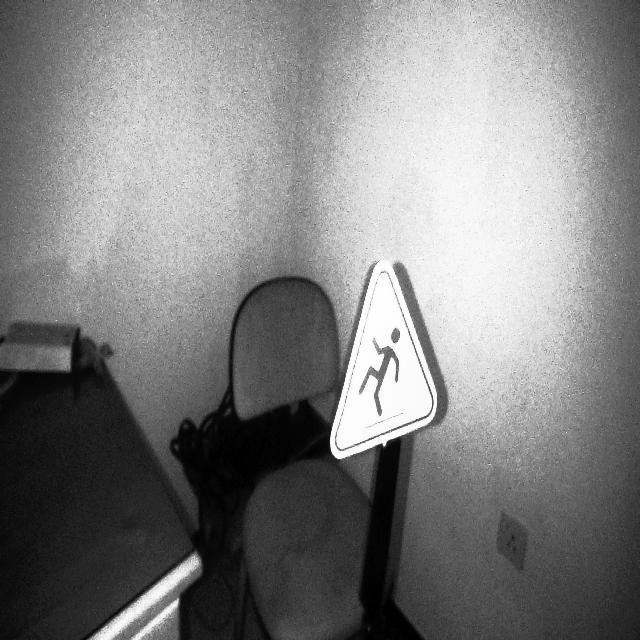Sign: (329, 258, 440, 464)
